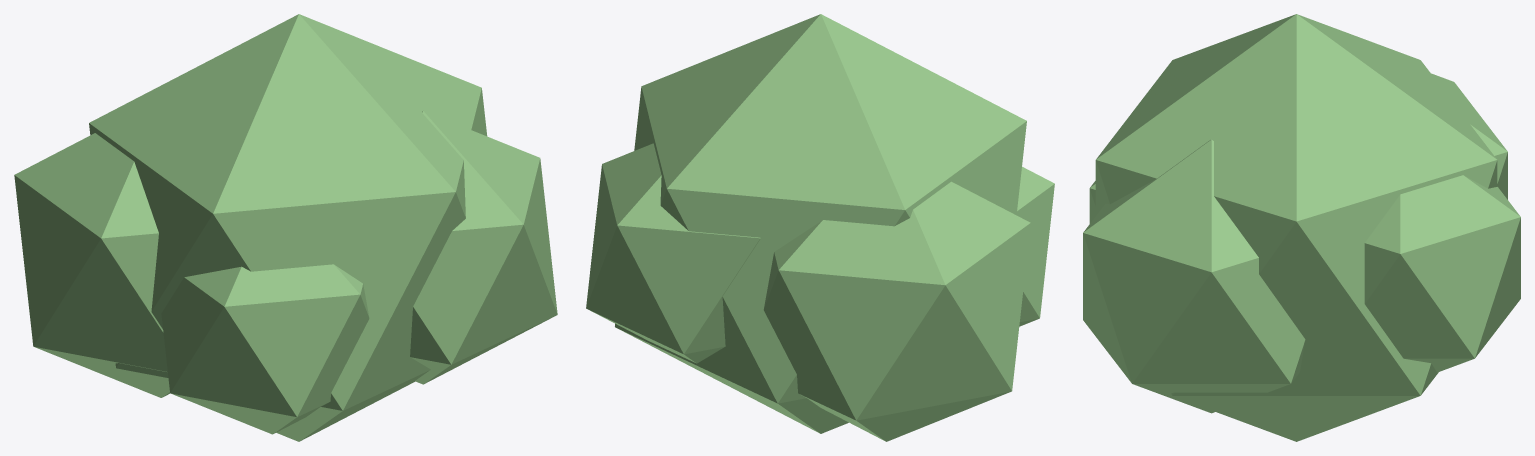
The model's file is 07_Bush.glb.
The picture shows the model from 3 angles, left to right: view 1: azimuth 30°, elevation 25°; view 2: azimuth 150°, elevation 25°; view 3: azimuth 270°, elevation 25°; orthographic projection.
Parts seen in each view (by area): view 1: Bush_Center, Bush_Part1, Bush_Part4, Bush_Part2; view 2: Bush_Center, Bush_Part1, Bush_Part3, Bush_Part4; view 3: Bush_Center, Bush_Part2, Bush_Part3, Bush_Part1.
Part boxes in pixels (x1,y1,x2,y2): Bush_Center: (89, 14, 487, 441); Bush_Part1: (14, 133, 169, 397); Bush_Part4: (161, 264, 369, 434); Bush_Part2: (410, 111, 557, 384); Bush_Center: (615, 14, 1026, 433); Bush_Part1: (763, 181, 1030, 441); Bush_Part3: (586, 143, 760, 363); Bush_Part4: (1016, 166, 1054, 326); Bush_Center: (1095, 14, 1497, 441); Bush_Part2: (1083, 139, 1305, 413); Bush_Part3: (1364, 175, 1520, 372); Bush_Part1: (1431, 73, 1507, 199).
Size of the model in its own units: 0.6296 by 0.6 by 0.5564.
